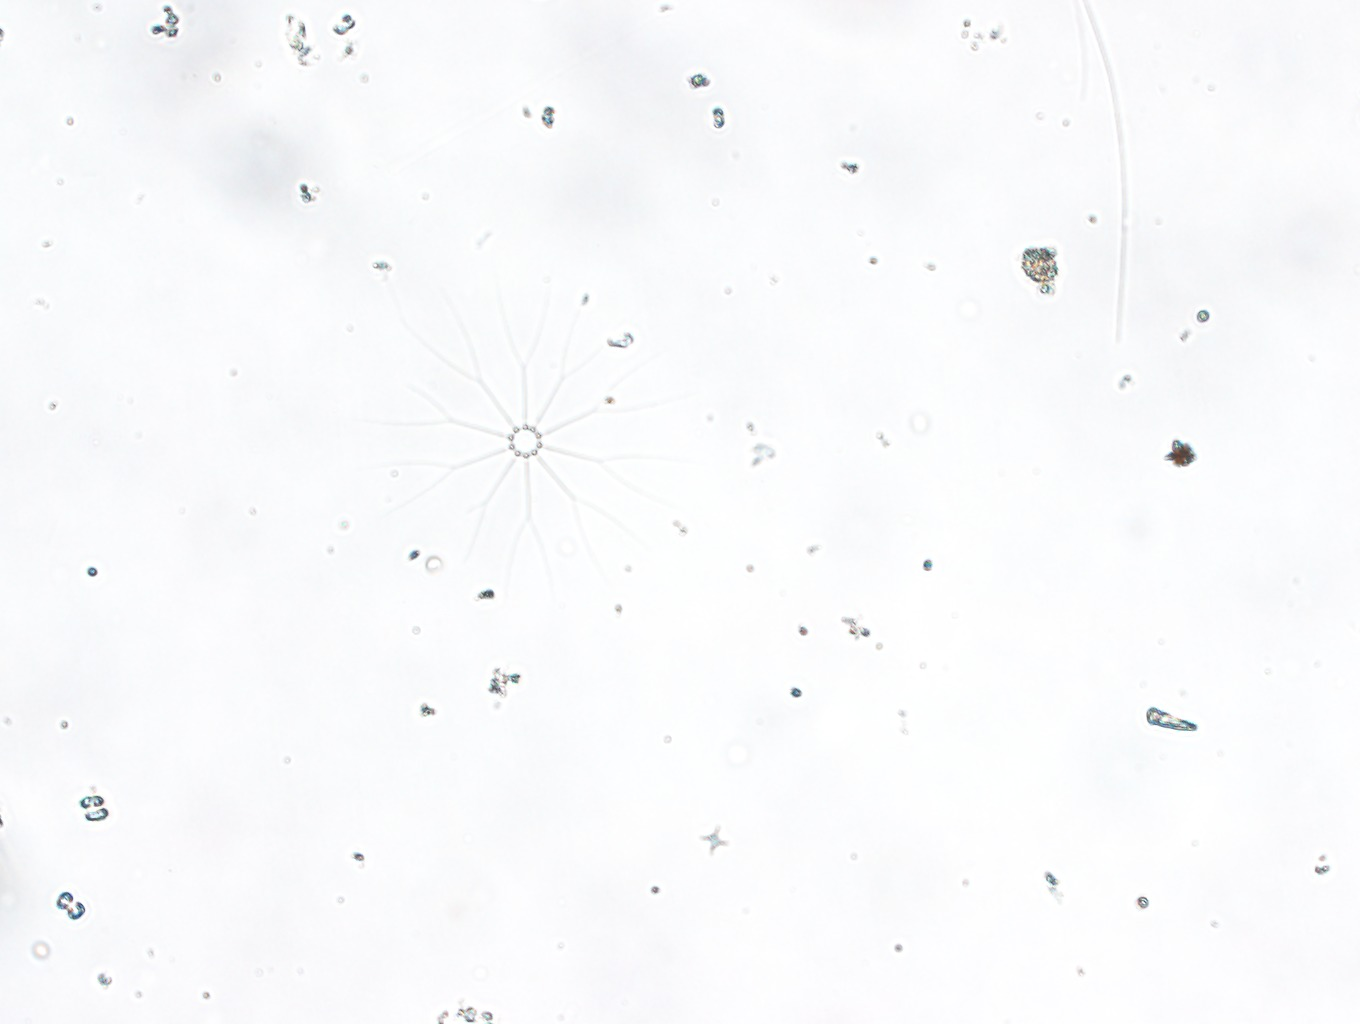bacteriastrum: (382, 289, 672, 591)
